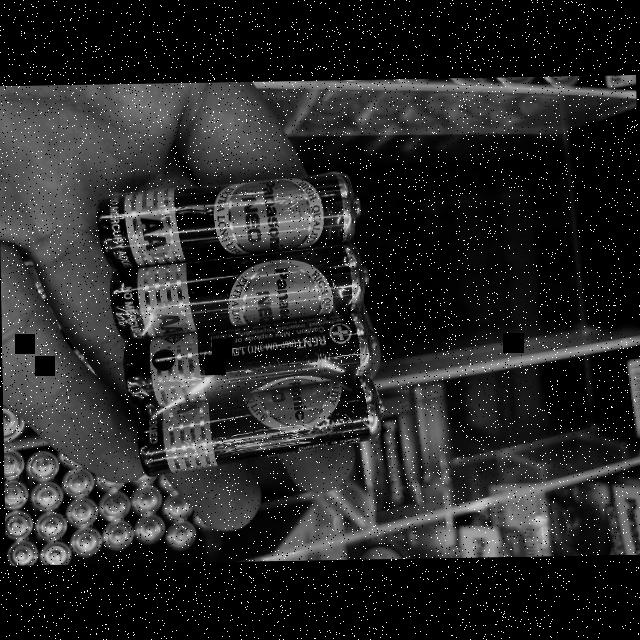battery: (118, 376, 392, 482), (116, 298, 379, 403), (94, 170, 362, 263), (105, 254, 376, 327)
